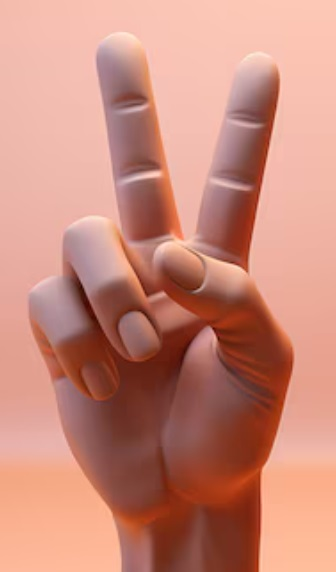peace: (27, 32, 296, 515)
